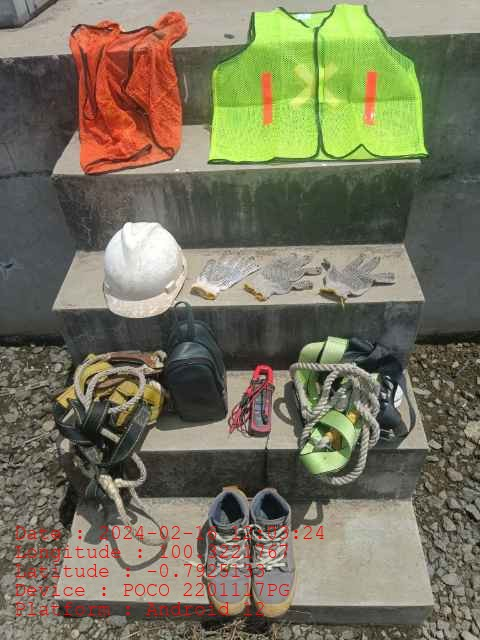HELM: (102, 221, 185, 318)
ROMPI: (211, 6, 426, 158), (68, 11, 187, 173)
SARUNG_TANGAN: (321, 252, 396, 299), (190, 248, 256, 297)
